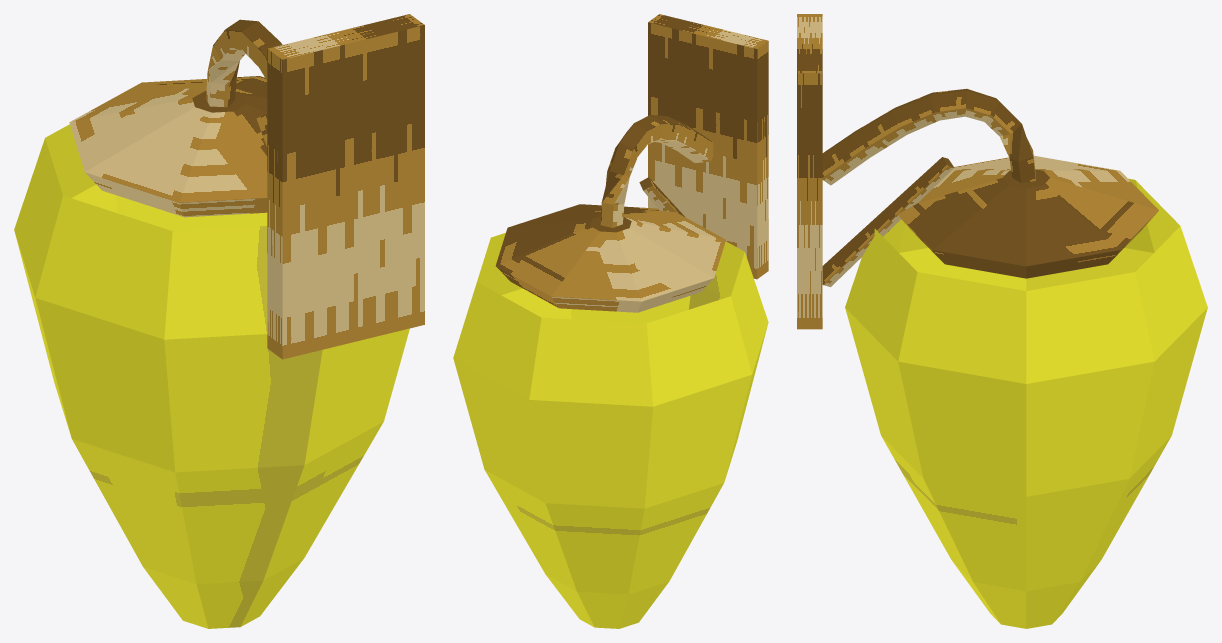
Rendered from ORN-07_Farol_de_sodio.gltf.
The picture shows the model from 3 angles, left to right: view 1: azimuth 30°, elevation 25°; view 2: azimuth 150°, elevation 25°; view 3: azimuth 270°, elevation 25°; orthographic projection. The views are drawn at different scales.
Parts seen in each view (by area): view 1: ORN-07_Farol_de_sodio; view 2: ORN-07_Farol_de_sodio; view 3: ORN-07_Farol_de_sodio.
Part boxes in pixels (x1,y1,x2,y2): ORN-07_Farol_de_sodio: [14, 14, 424, 628]; ORN-07_Farol_de_sodio: [453, 14, 768, 628]; ORN-07_Farol_de_sodio: [797, 14, 1207, 628].
Size of what is drawn, in the model's own units: 0.424 by 0.735 by 0.48.
Materials: 1 (1 with a texture image).
